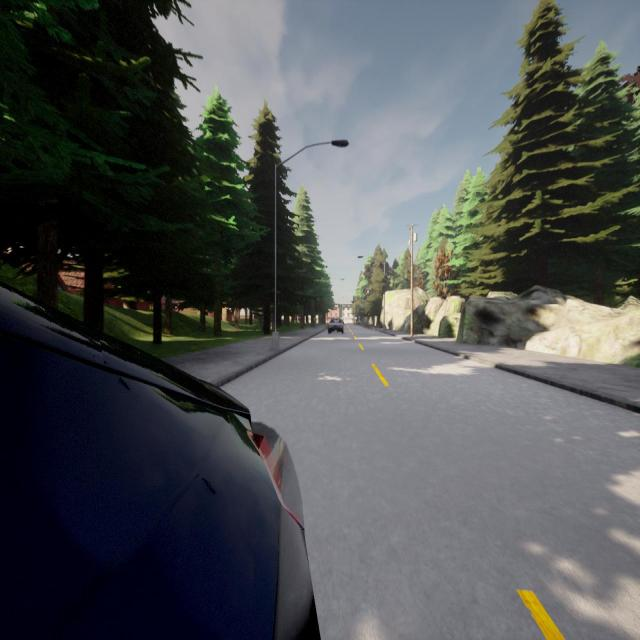Vehicle: (0, 284, 318, 638), (328, 318, 344, 334)
